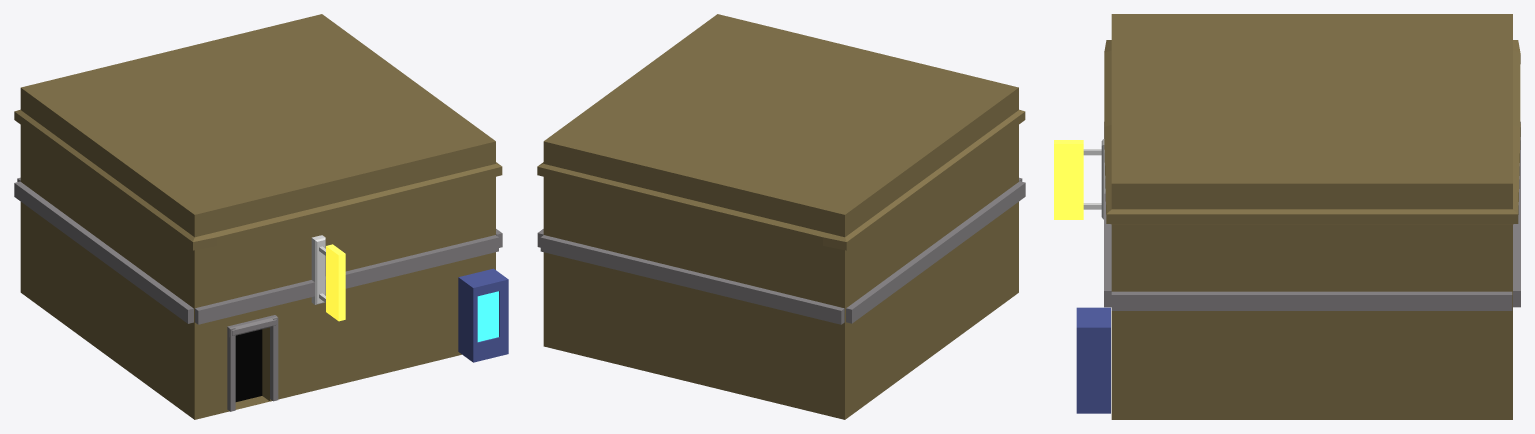
The picture shows the model from 3 angles, left to right: view 1: azimuth 30°, elevation 25°; view 2: azimuth 150°, elevation 25°; view 3: azimuth 270°, elevation 25°; orthographic projection. The views are drawn at different scales.
Parts seen in each view (by area): view 1: Cube, Cube.006, Cube.011, Cube.007, Cube.001, Cube.015, Cube.008, Cube.012, Cube.004, Cube.005, Cube.002; view 2: Cube, Cube.009, Cube.011; view 3: Cube, Cube.010, Cube.007, Cube.015, Cube.009, Cube.006.
Boxes of the visible parts, x1,y1,x2,y2 form: Cube: (14, 14, 502, 419); Cube.006: (195, 235, 498, 324); Cube.011: (14, 181, 193, 323); Cube.007: (458, 268, 508, 362); Cube.001: (235, 329, 262, 401); Cube.015: (326, 244, 345, 321); Cube.008: (477, 291, 498, 341); Cube.012: (311, 235, 325, 304); Cube.004: (227, 328, 235, 411); Cube.005: (270, 317, 278, 401); Cube.002: (227, 315, 277, 336); Cube: (537, 14, 1025, 419); Cube.009: (540, 235, 844, 324); Cube.011: (846, 181, 1025, 323); Cube: (1104, 14, 1520, 419); Cube.010: (1111, 291, 1512, 310); Cube.007: (1076, 307, 1110, 413); Cube.015: (1054, 140, 1083, 219); Cube.009: (1513, 121, 1520, 307); Cube.006: (1104, 122, 1111, 307).
Size of what is drawn, in the model's own units: 13 by 8.1 by 14.5.
